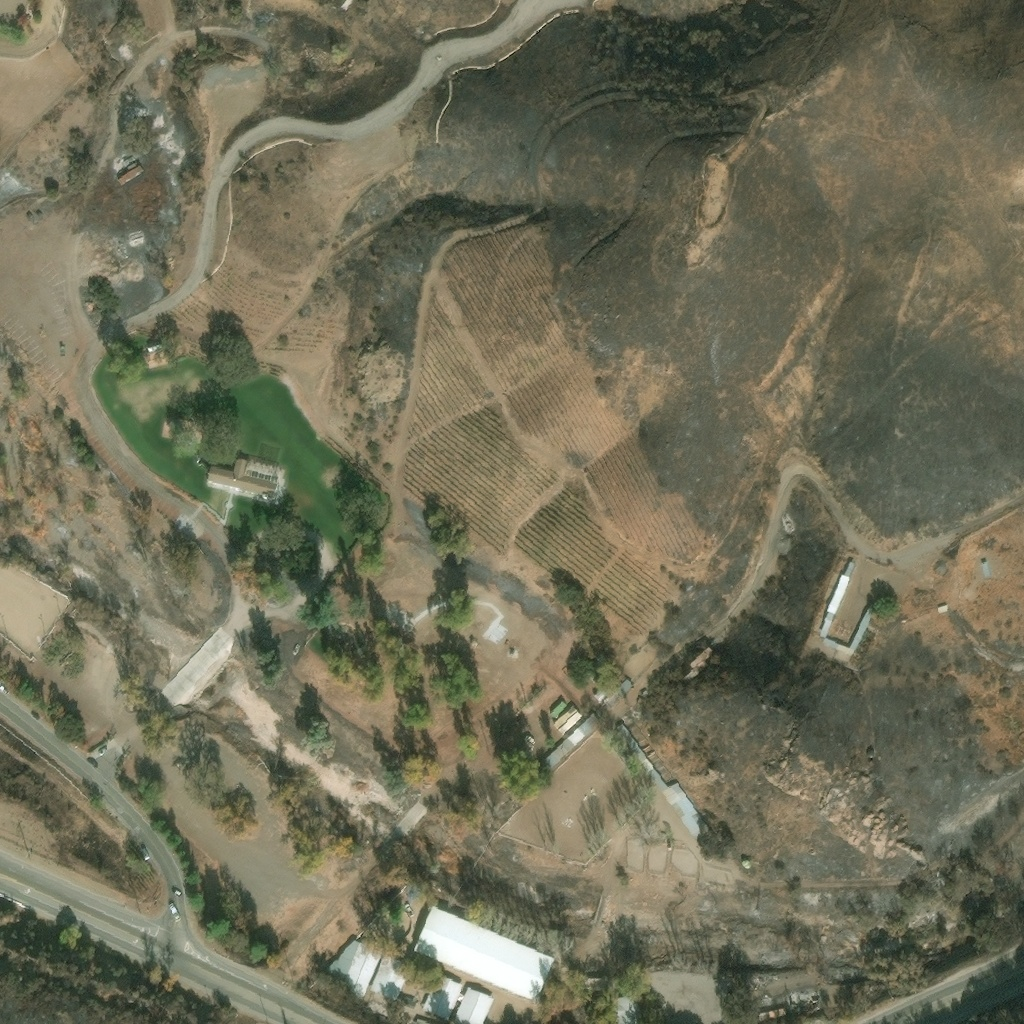0 no-damage: (414, 905, 557, 1004), (617, 716, 715, 843), (206, 458, 287, 505), (322, 938, 382, 1001), (536, 716, 600, 775), (821, 561, 856, 637), (824, 607, 875, 658), (421, 975, 464, 1021), (369, 956, 411, 1002), (364, 997, 430, 1023), (453, 986, 494, 1023), (554, 705, 583, 735), (616, 999, 639, 1023), (616, 677, 634, 696), (145, 341, 168, 355), (982, 562, 992, 579), (938, 605, 949, 614)
1 minor-damage: (123, 157, 134, 167), (127, 163, 137, 172)
3 destroyed: (684, 644, 715, 682), (790, 991, 821, 1012), (760, 995, 793, 1014), (127, 229, 146, 243), (781, 514, 796, 531)
